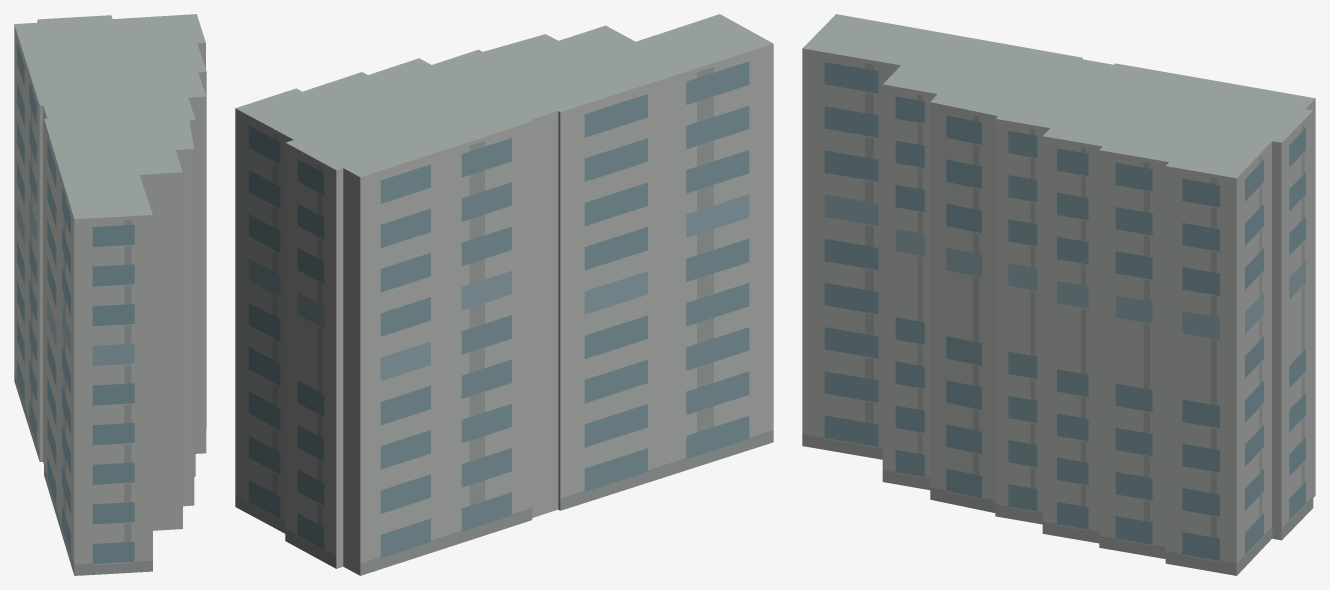
The model's file is survey-upis-32469487.glb.
The picture shows the model from 3 angles, left to right: view 1: azimuth 30°, elevation 25°; view 2: azimuth 150°, elevation 25°; view 3: azimuth 270°, elevation 25°; orthographic projection. The views are drawn at different scales.
Visible parts, largest first — view 1: survey-upis-32469487.tmp; view 2: survey-upis-32469487.tmp; view 3: survey-upis-32469487.tmp.
Part boxes in pixels (x1=…): survey-upis-32469487.tmp: x1=14, y1=14, x2=206, y2=575; survey-upis-32469487.tmp: x1=235, y1=14, x2=773, y2=575; survey-upis-32469487.tmp: x1=802, y1=14, x2=1315, y2=575.
Size of the model in its own units: 21.64 by 24.4 by 28.55.
